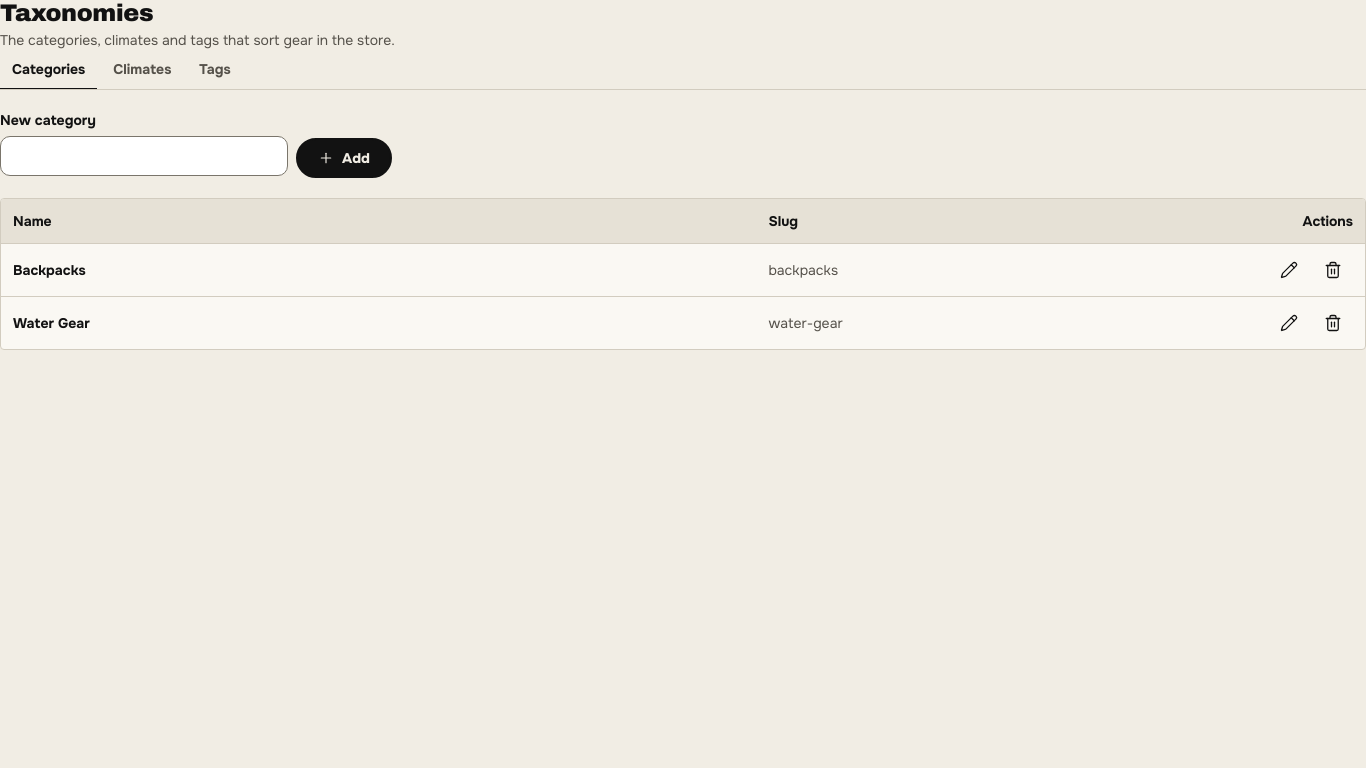
TaxonomiesPage › deletes an item after asking
The image size is (1366, 768).
Expected: the table named "Categories" is shown, 1,199 -> 1365,349
Expected: the text "Backpacks" is shown, 1,244 -> 756,297
Click the button named "Delete Water Gear".
click(1333, 323)  # box 1313,303 -> 1353,343
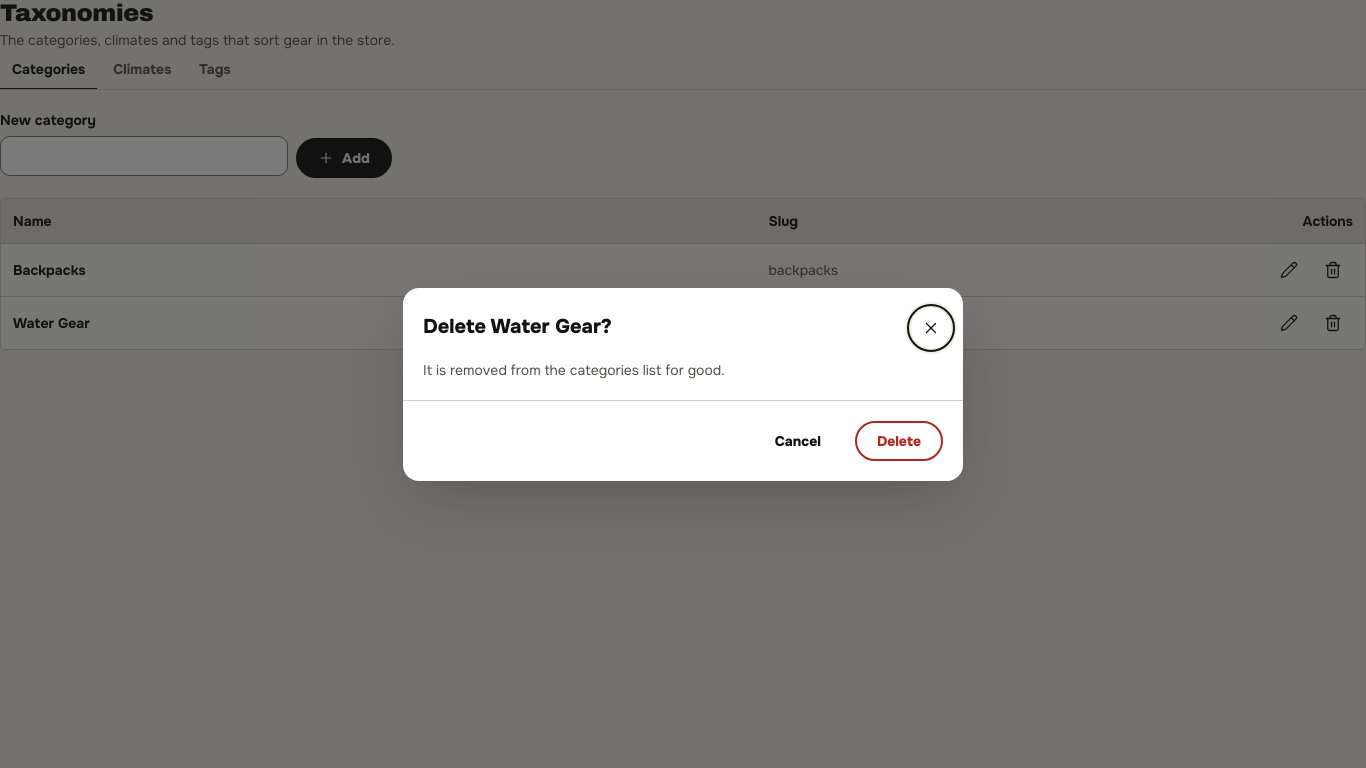
Click the button "Delete".
click(899, 440)  # box 855,420 -> 943,460
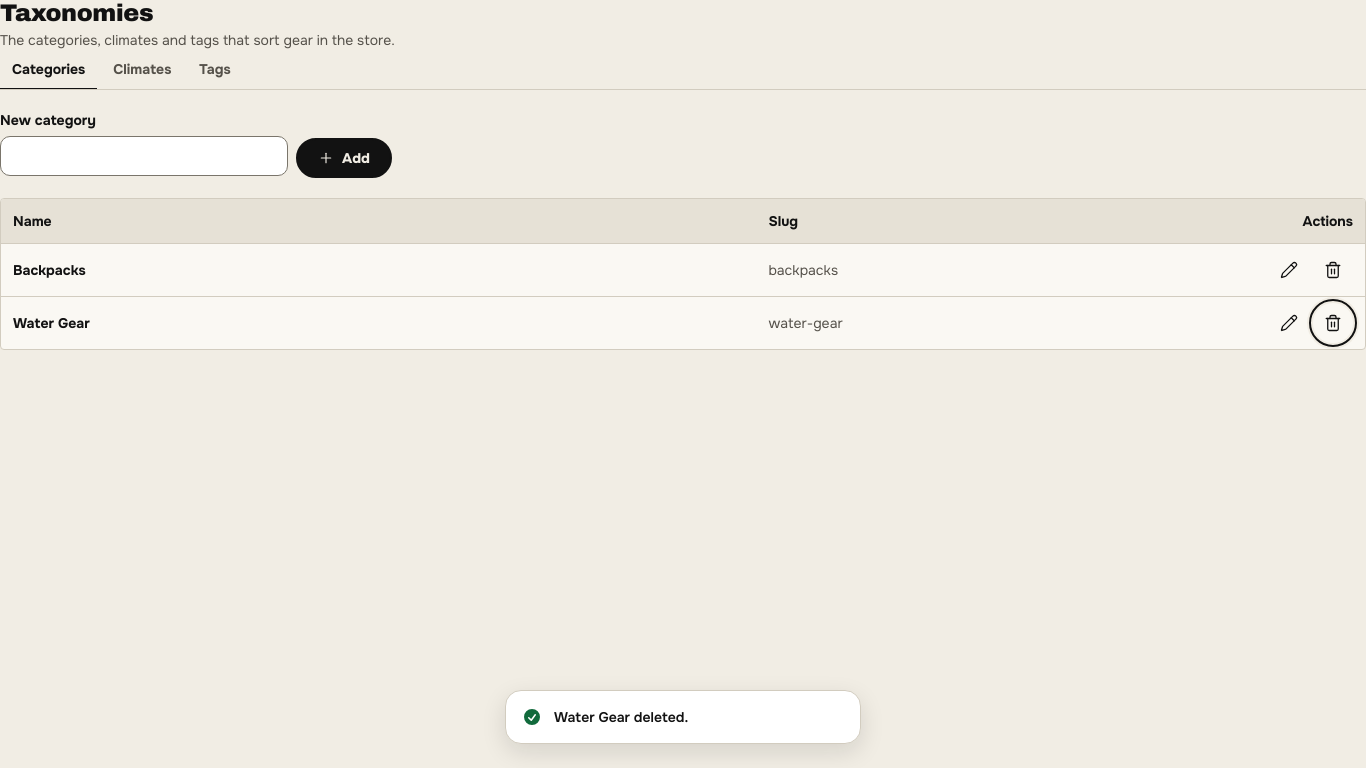
Result: the dialog is gone
